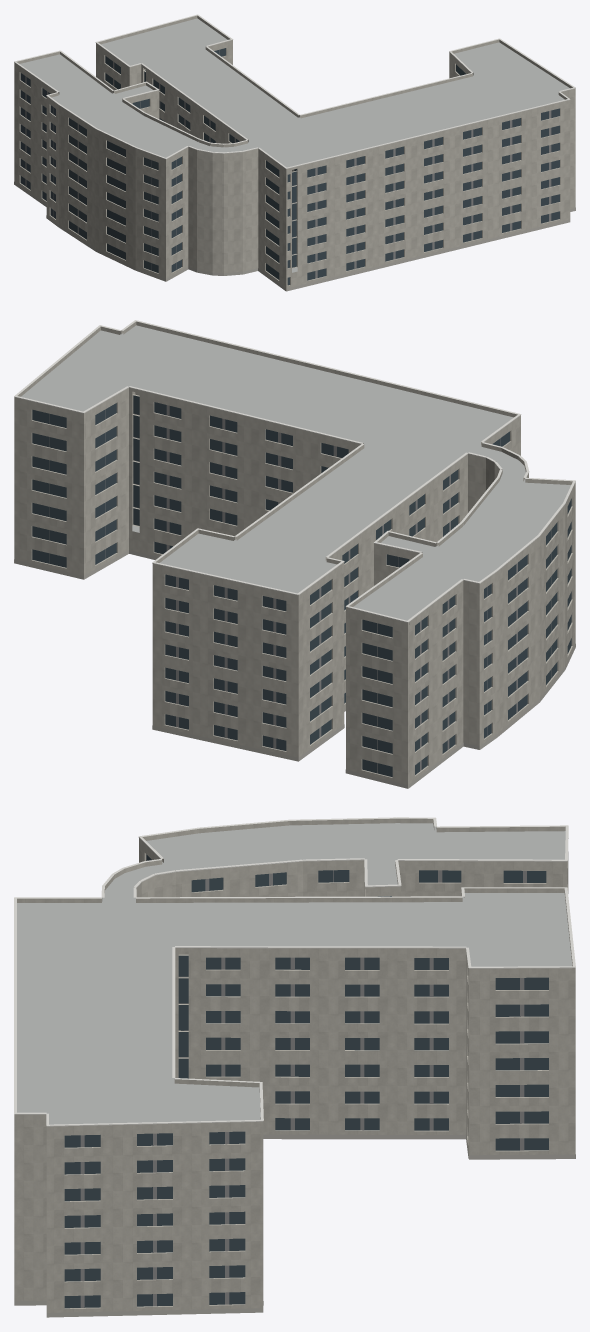
3 renders of one model, top to bottom at view 1: azimuth 30°, elevation 25°; view 2: azimuth 150°, elevation 25°; view 3: azimuth 270°, elevation 25°, orthographic. The views are drawn at different scales.
Parts seen in each view (by area): view 1: bobst__wall, bobst__roof, bobst__glass, bobst__parapet, bobst__trim, bobst__base, bobst__frame; view 2: bobst__wall, bobst__roof, bobst__glass, bobst__parapet, bobst__trim, bobst__frame, bobst__base; view 3: bobst__wall, bobst__roof, bobst__glass, bobst__parapet, bobst__trim, bobst__frame, bobst__base.
Boxes of the visible parts, bbox=[...] form: bobst__wall: bbox=[14, 42, 575, 290]; bobst__roof: bbox=[20, 18, 569, 272]; bobst__glass: bbox=[20, 48, 559, 285]; bobst__parapet: bbox=[14, 15, 575, 171]; bobst__trim: bbox=[14, 14, 575, 168]; bobst__base: bbox=[14, 182, 575, 291]; bobst__frame: bbox=[25, 50, 551, 278]; bobst__wall: bbox=[14, 390, 575, 788]; bobst__roof: bbox=[21, 325, 570, 620]; bobst__glass: bbox=[32, 395, 571, 777]; bobst__parapet: bbox=[14, 321, 575, 625]; bobst__trim: bbox=[14, 320, 575, 622]; bobst__frame: bbox=[49, 405, 551, 773]; bobst__base: bbox=[14, 550, 575, 788]; bobst__wall: bbox=[14, 841, 575, 1312]; bobst__roof: bbox=[17, 823, 572, 1124]; bobst__glass: bbox=[64, 854, 548, 1308]; bobst__parapet: bbox=[14, 818, 575, 1129]; bobst__trim: bbox=[14, 817, 575, 1126]; bobst__frame: bbox=[80, 870, 526, 1307]; bobst__base: bbox=[14, 1134, 575, 1317].
Size of the model in its own units: 89.02 by 25.8 by 68.54.
Materials: 7 (2 with a texture image).
